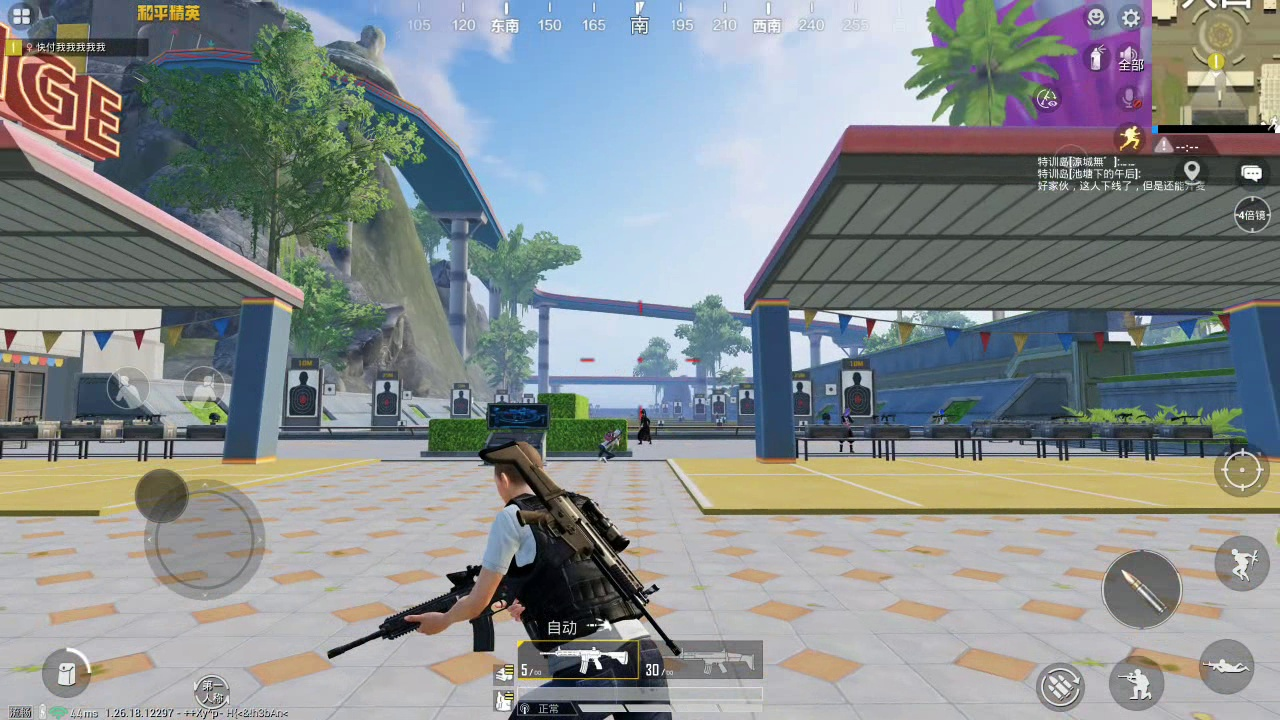enemy: (594, 426, 623, 463), (838, 404, 855, 457), (635, 406, 653, 443)
